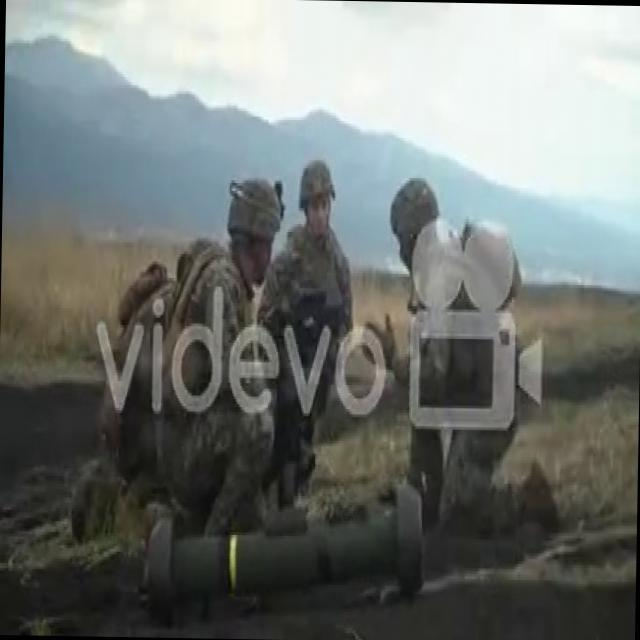rocket: (143, 480, 423, 626)
